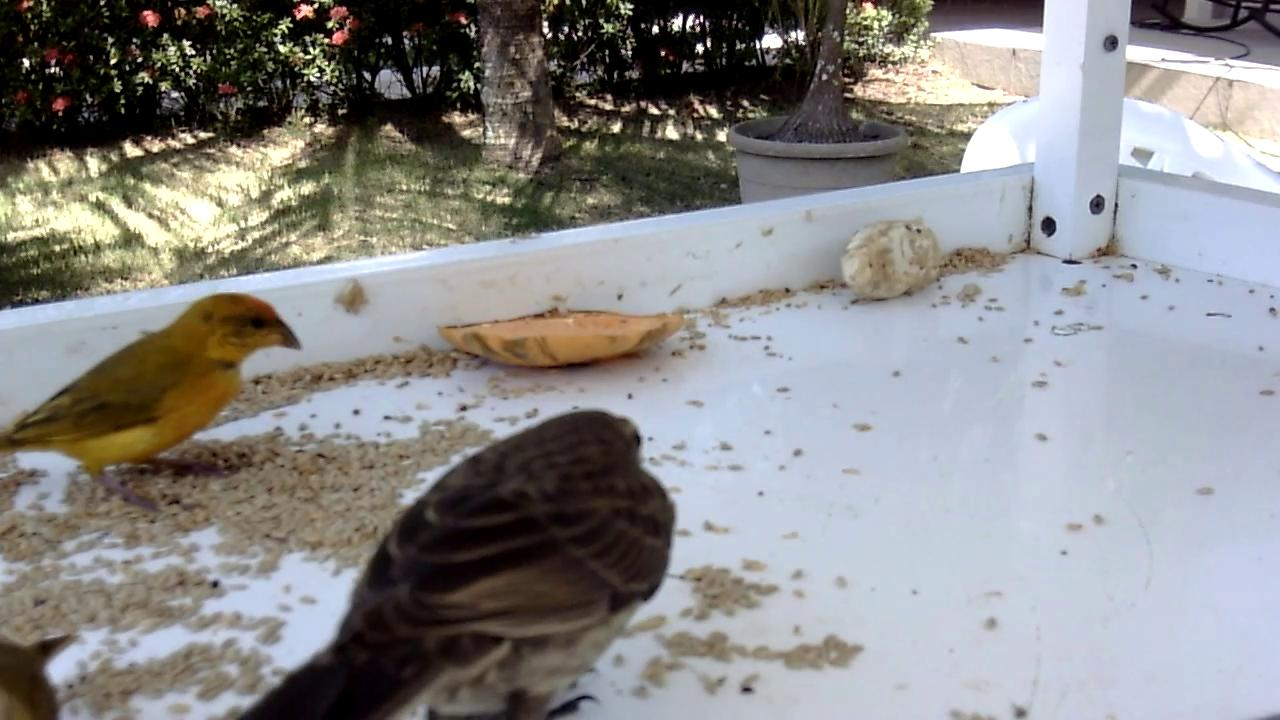canario_do_amazonas: (1, 290, 307, 516)
chupim: (242, 405, 681, 720)
